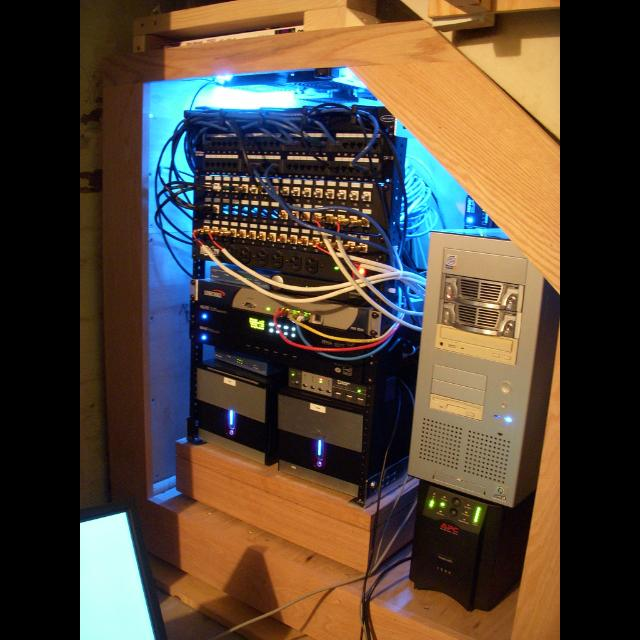Server: (180, 96, 394, 572)
